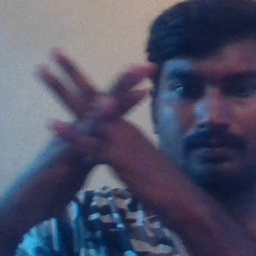W: (28, 37, 161, 180)
